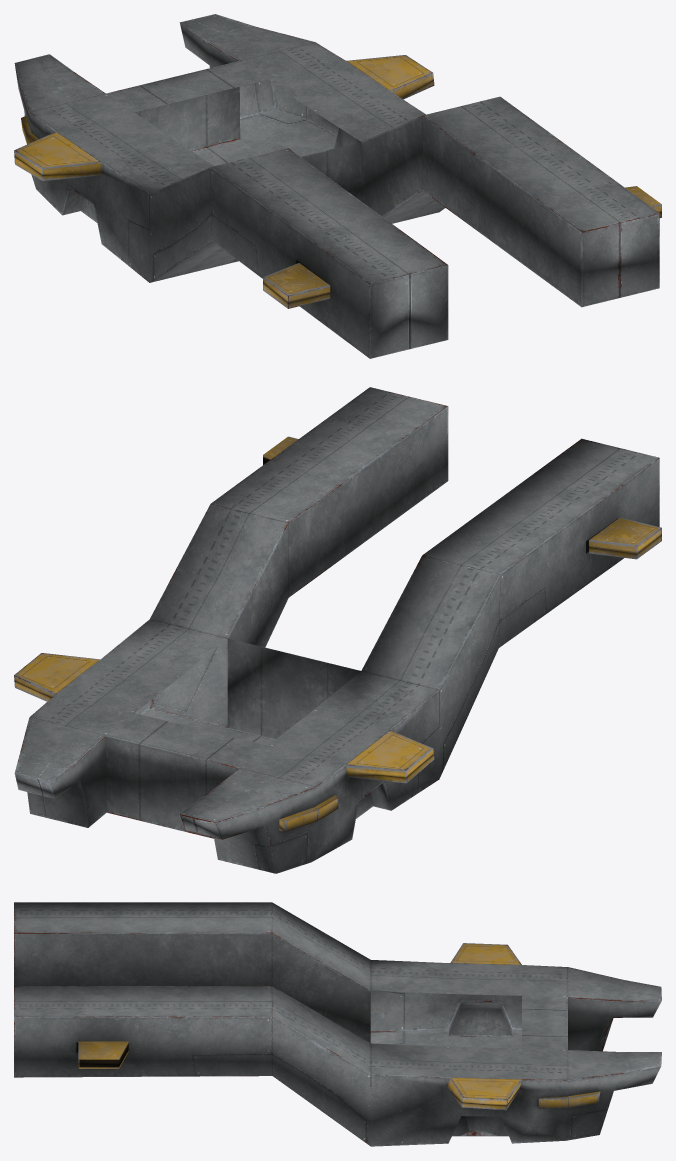
Rendered from Spaceship_docking_part2_mdl.fbx.
3 renders of one model, top to bottom at view 1: azimuth 30°, elevation 25°; view 2: azimuth 150°, elevation 25°; view 3: azimuth 270°, elevation 25°, orthographic. The views are drawn at different scales.
Parts seen in each view (by area): view 1: staceship_parts2_mdl; view 2: staceship_parts2_mdl; view 3: staceship_parts2_mdl.
Boxes of the visible parts, box(x1,y1,x2,y2) form: staceship_parts2_mdl: box(14, 14, 661, 358); staceship_parts2_mdl: box(14, 387, 661, 873); staceship_parts2_mdl: box(14, 902, 661, 1146).
Bounding box in the file's own units: 607 × 238 × 1075.
